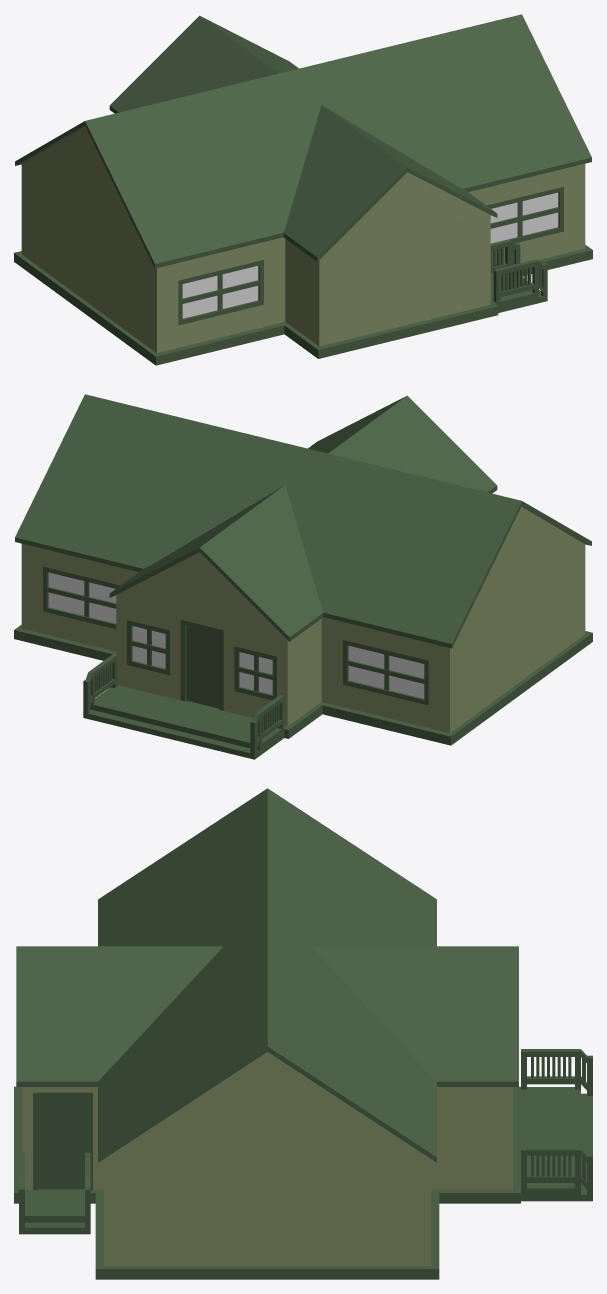
The model's file is House #11.fbx.
The picture shows the model from 3 angles, top to bottom: view 1: azimuth 30°, elevation 25°; view 2: azimuth 150°, elevation 25°; view 3: azimuth 270°, elevation 25°; orthographic projection. The views are drawn at different scales.
Visible parts, largest first — view 1: building_001; view 2: building_001; view 3: building_001.
Part boxes in pixels (box(x1,y1,x2,y2)): building_001: box(14, 14, 592, 365); building_001: box(14, 394, 592, 759); building_001: box(14, 788, 592, 1279).
Bounding box in the file's own units: 1020 × 430 × 967.
